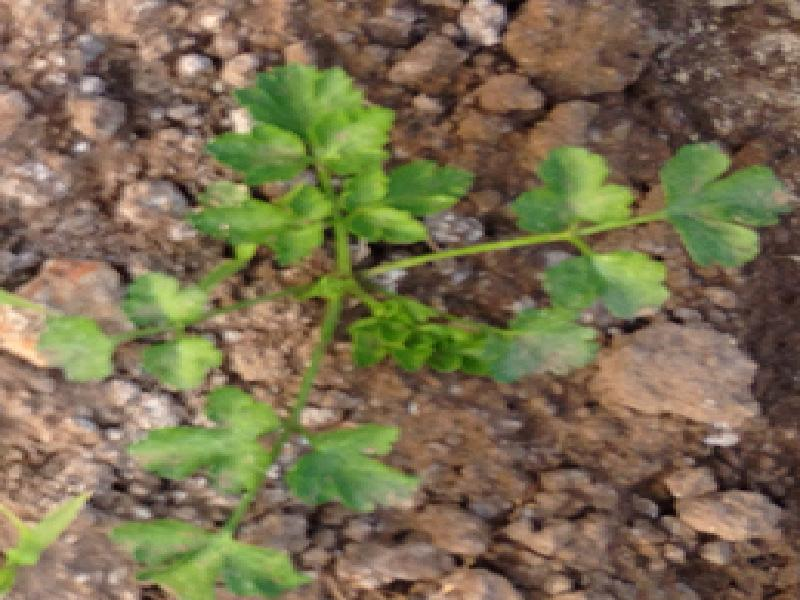radish: (48, 3, 800, 587)
